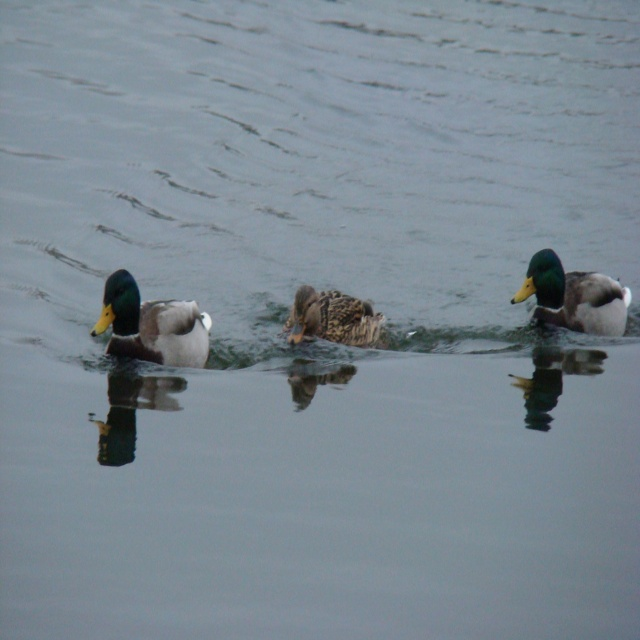Duck: (95, 267, 221, 370), (503, 250, 634, 337), (284, 280, 386, 357)
